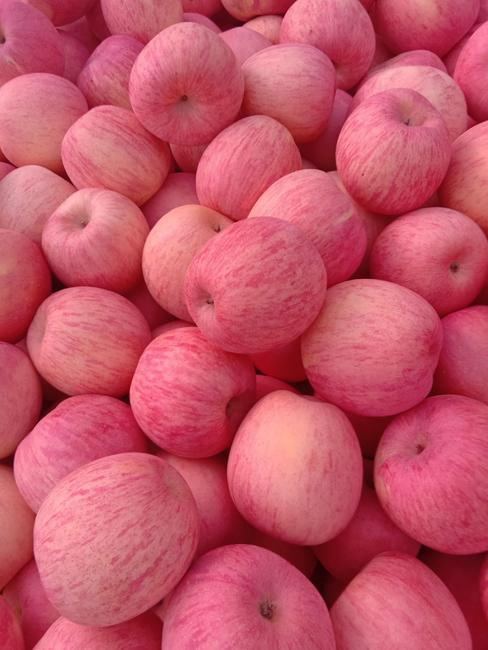apple: (26, 456, 206, 629), (181, 215, 328, 357), (228, 390, 361, 543), (302, 277, 444, 415), (369, 394, 488, 555), (161, 539, 333, 648), (127, 326, 259, 459), (130, 21, 246, 145), (334, 87, 449, 212), (28, 285, 149, 397), (365, 206, 487, 314), (57, 104, 174, 207), (40, 186, 147, 294), (195, 114, 304, 218), (239, 43, 338, 141), (1, 72, 93, 173)
